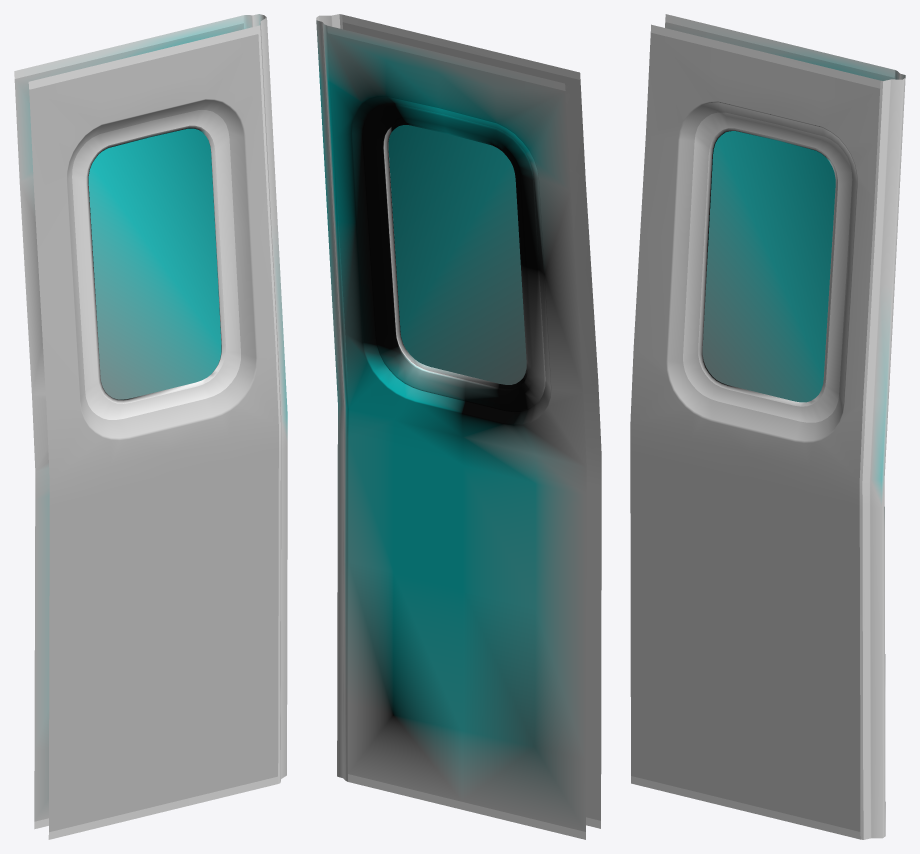
File: SM_door_wall_02.fbx
3 views of the same model, side by side, from view 1: azimuth 30°, elevation 25°; view 2: azimuth 150°, elevation 25°; view 3: azimuth 330°, elevation 25° (orthographic). The views are drawn at different scales.
Visible parts, largest first — view 1: SM_door_wall_02_LOD0; view 2: SM_door_wall_02_LOD0; view 3: SM_door_wall_02_LOD0.
Boxes of the visible parts, <box> form: SM_door_wall_02_LOD0: <box>14,14,287,839</box>; SM_door_wall_02_LOD0: <box>316,14,601,839</box>; SM_door_wall_02_LOD0: <box>630,14,905,839</box>.
Bounding box in the file's own units: 75.49 × 219 × 18.94.
